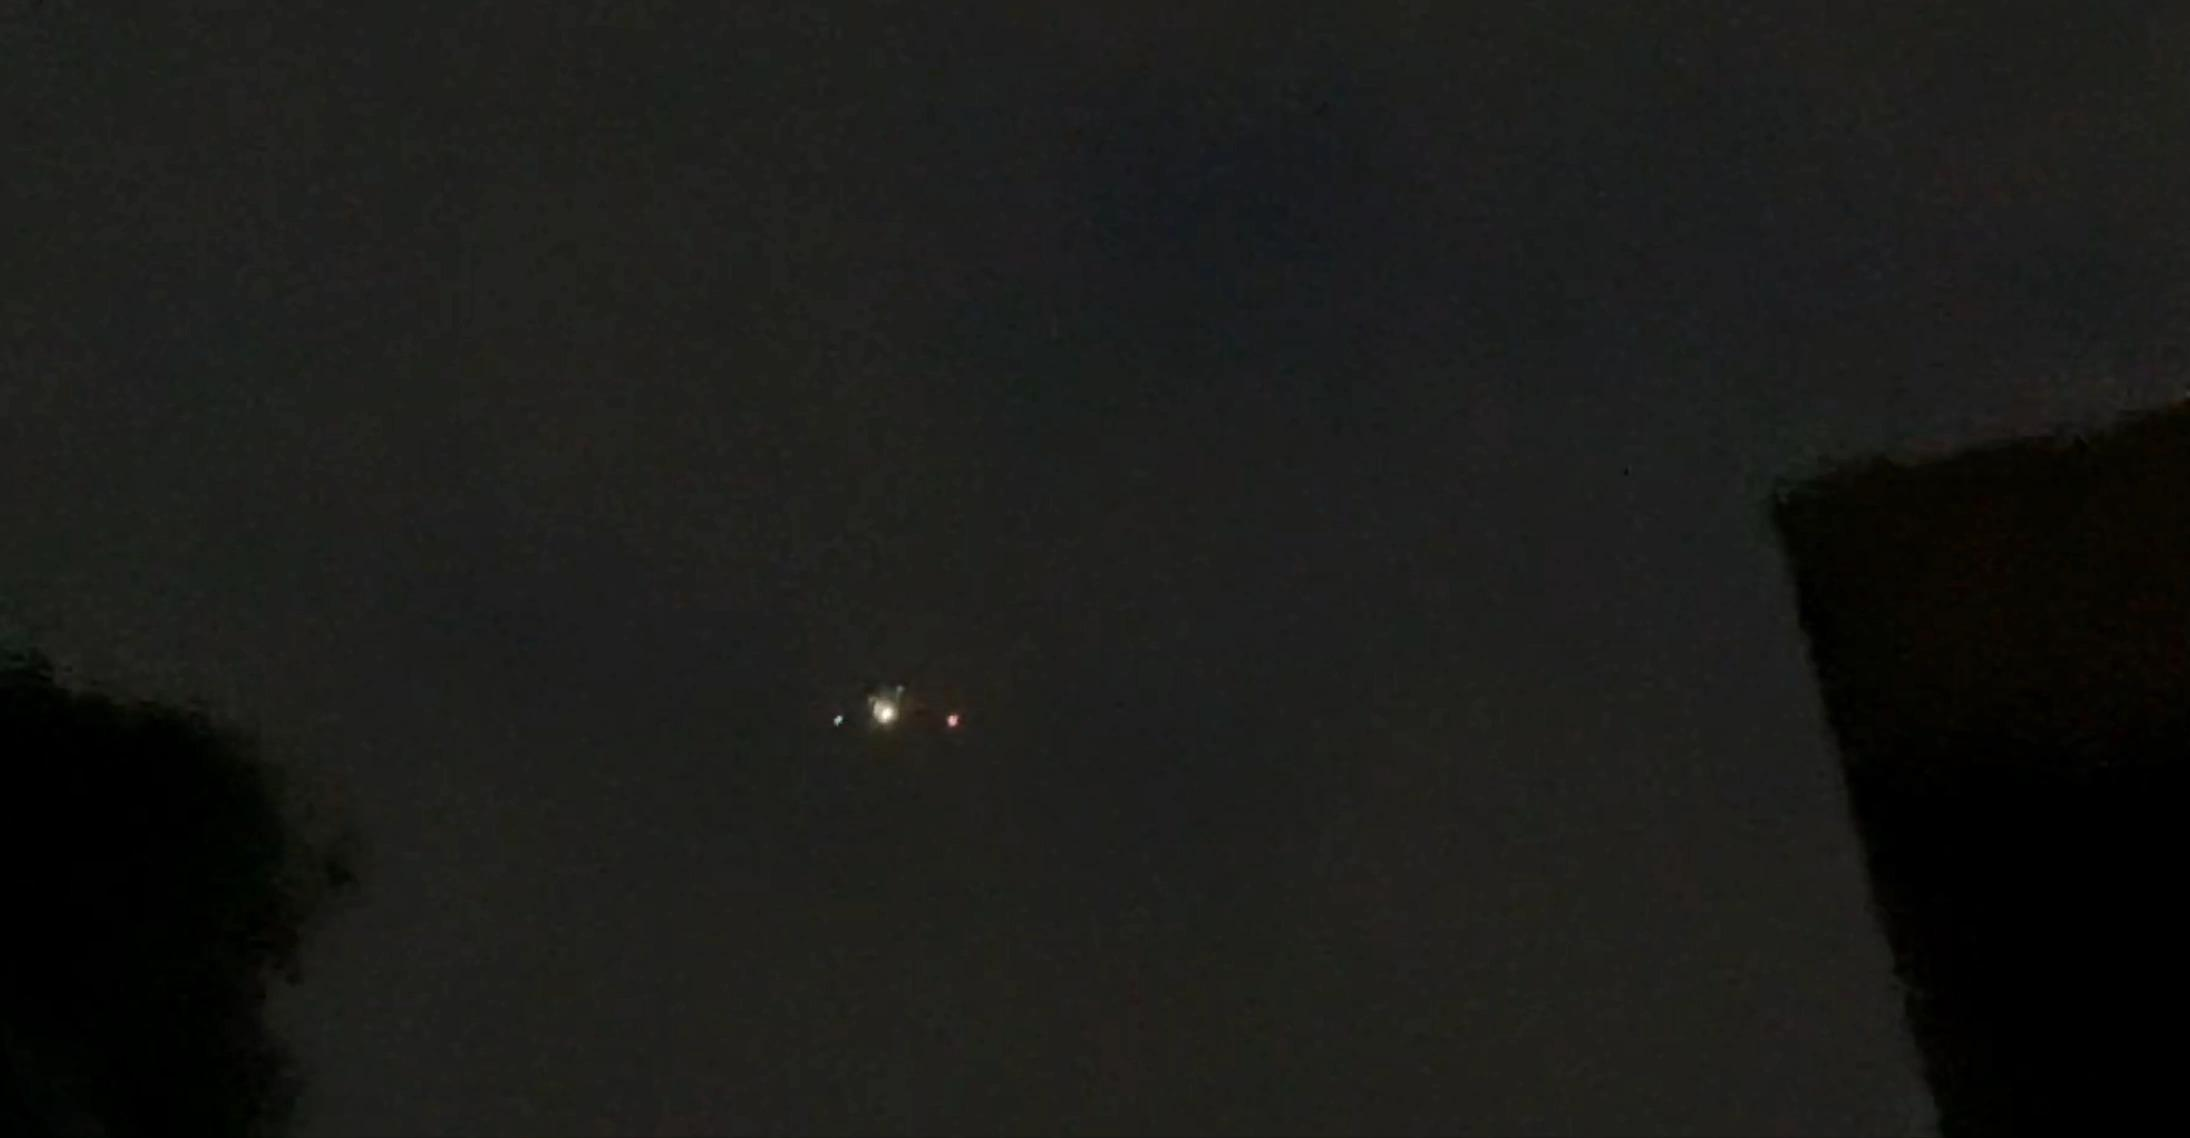Plane: (771, 662, 1018, 762)
